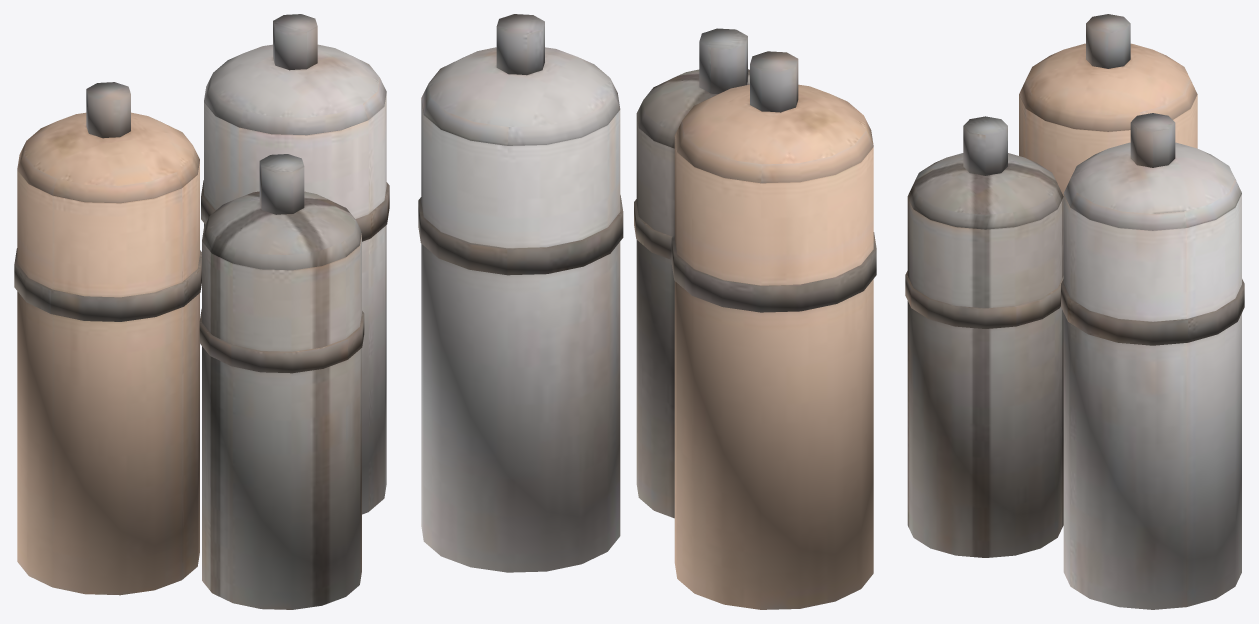
The model's file is barrels.glb.
3 renders of one model, left to right at view 1: azimuth 30°, elevation 25°; view 2: azimuth 150°, elevation 25°; view 3: azimuth 270°, elevation 25°, orthographic. The views are drawn at different scales.
Visible parts, largest first — view 1: barrels; view 2: barrels; view 3: barrels.
Part boxes in pixels (x1=…): barrels: x1=14, y1=14, x2=389, y2=609; barrels: x1=418, y1=14, x2=876, y2=609; barrels: x1=905, y1=14, x2=1244, y2=609.
Bounding box in the file's own units: 0.7496 × 0.89 × 0.609.
1 material, 1 textured.
